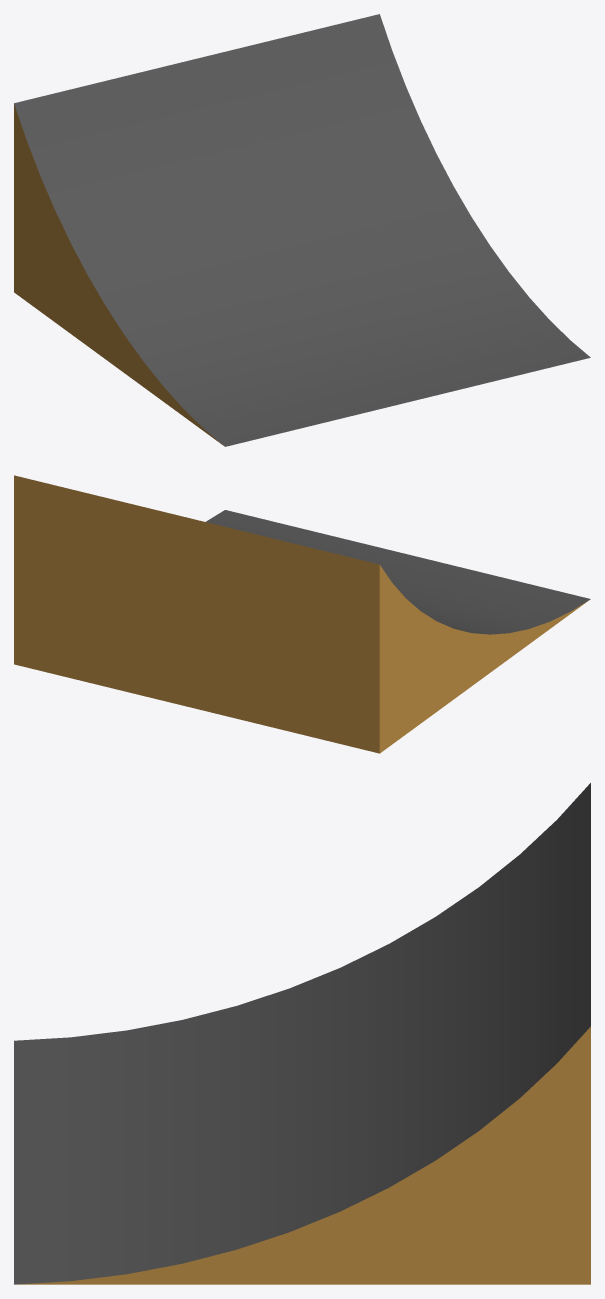
The model's file is Skate_Ramp_Curved_01.FBX.
3 views of the same model, one above another, from view 1: azimuth 30°, elevation 25°; view 2: azimuth 150°, elevation 25°; view 3: azimuth 270°, elevation 25° (orthographic). The views are drawn at different scales.
Parts seen in each view (by area): view 1: Skate_Ramp_Curved_01; view 2: Skate_Ramp_Curved_01; view 3: Skate_Ramp_Curved_01.
Boxes of the visible parts, box(x1,y1,x2,y2) form: Skate_Ramp_Curved_01: box(14, 14, 590, 446); Skate_Ramp_Curved_01: box(14, 475, 590, 753); Skate_Ramp_Curved_01: box(14, 783, 590, 1284).
Bounding box in the file's own units: 3 × 1.48 × 3.
